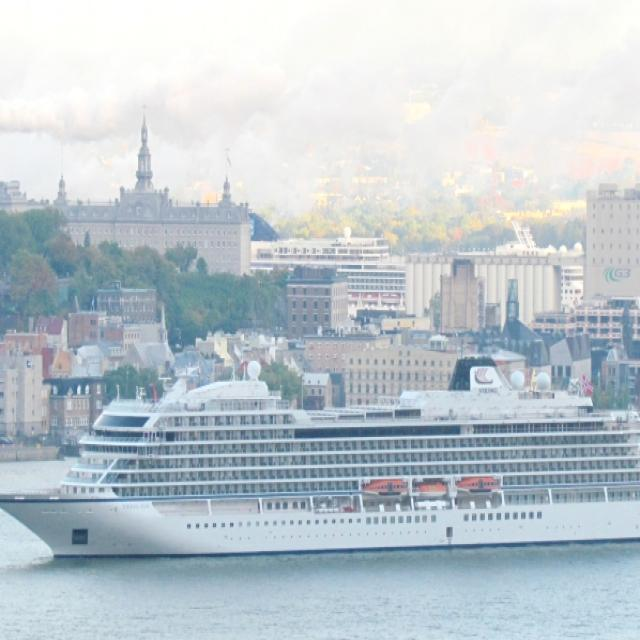cruises: (1, 344, 640, 564)
